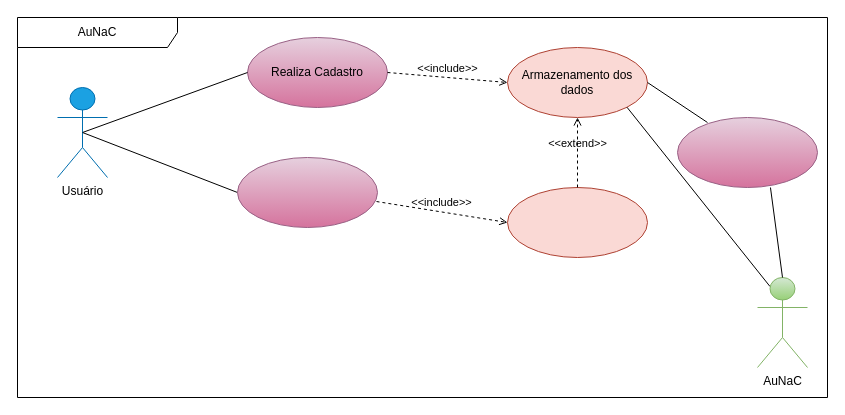
Image size: 845x415. Some labels were removed from this diagram. Each missing label, with the centre of its shape:
"Cadastro Realizado" belongs at point 747,152.
"Consulta de dados" belongs at point 577,222.
"Realiza Login" belongs at point 307,192.
